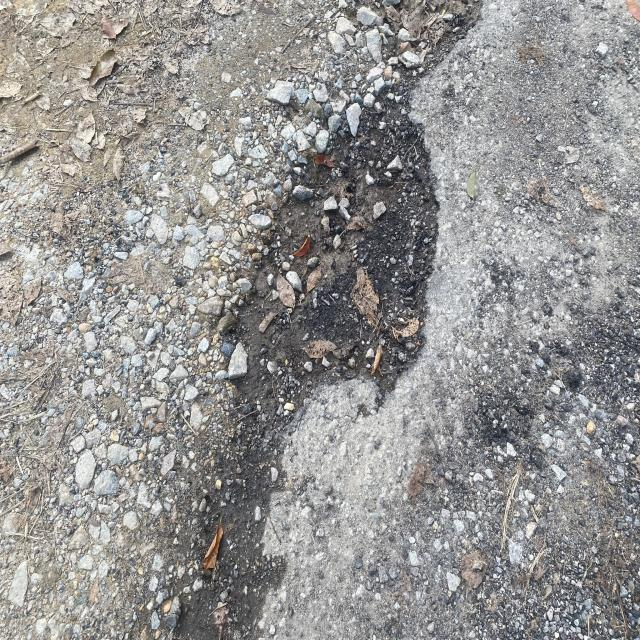Pothole: (251, 42, 575, 507)
